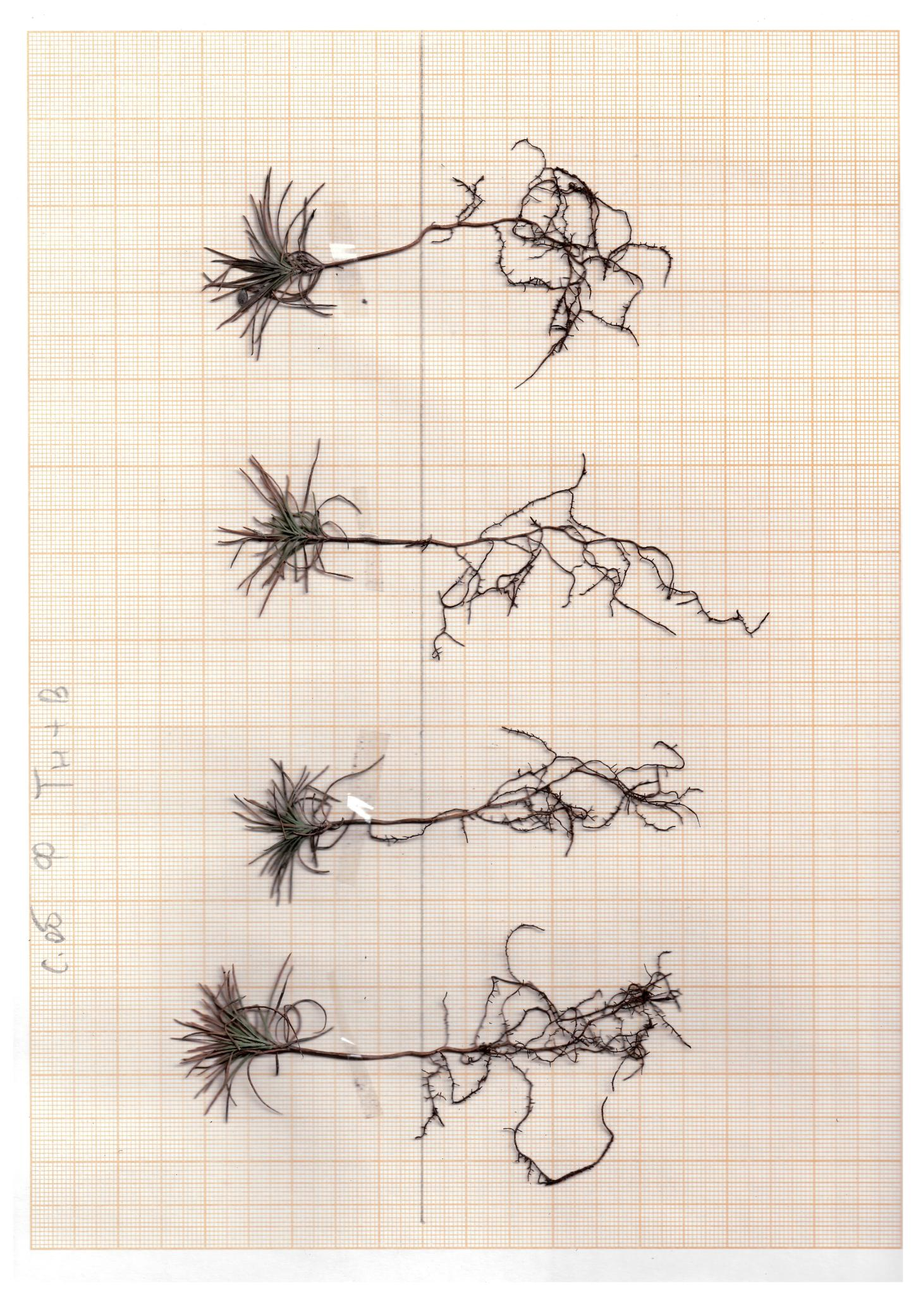cedr: (205, 418, 777, 660), (168, 942, 698, 1191), (190, 132, 685, 397), (223, 719, 707, 905)
